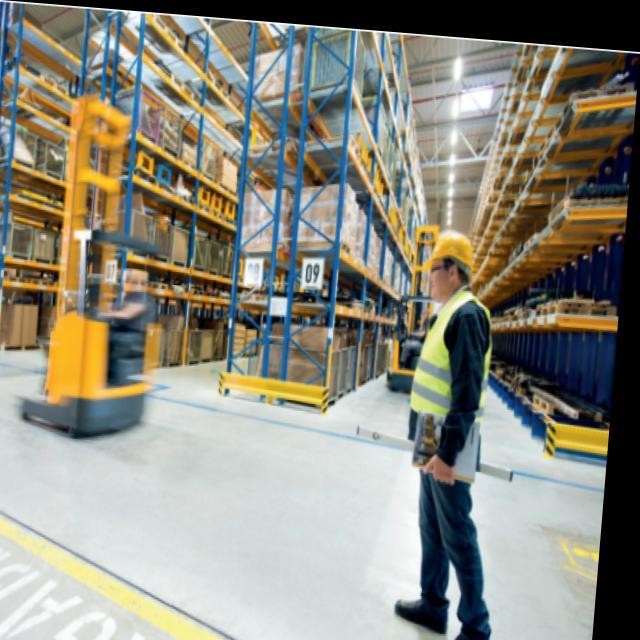hard_hat: (400, 286, 499, 472), (384, 590, 497, 640), (411, 229, 479, 307)
